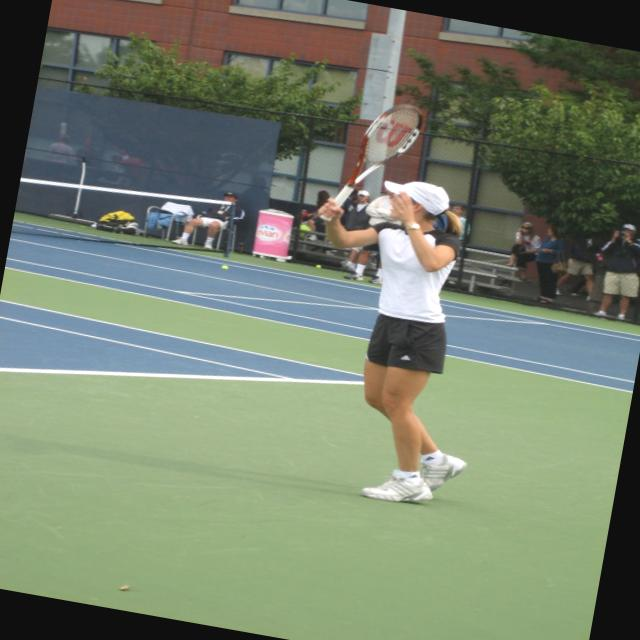Tennis ball: (220, 263, 228, 268)
